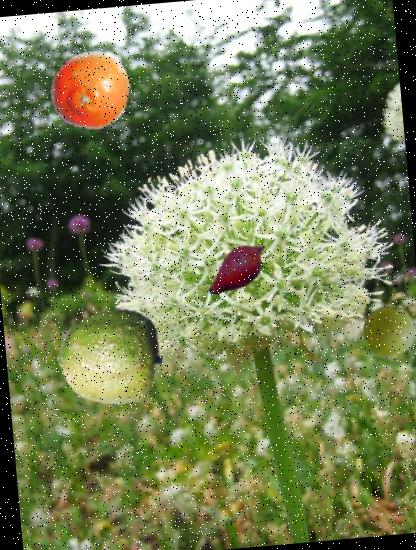Grape: (361, 303, 416, 360)
Limes: (53, 300, 167, 414)
Salak: (198, 229, 278, 308)
Tangelo: (46, 45, 135, 134)
